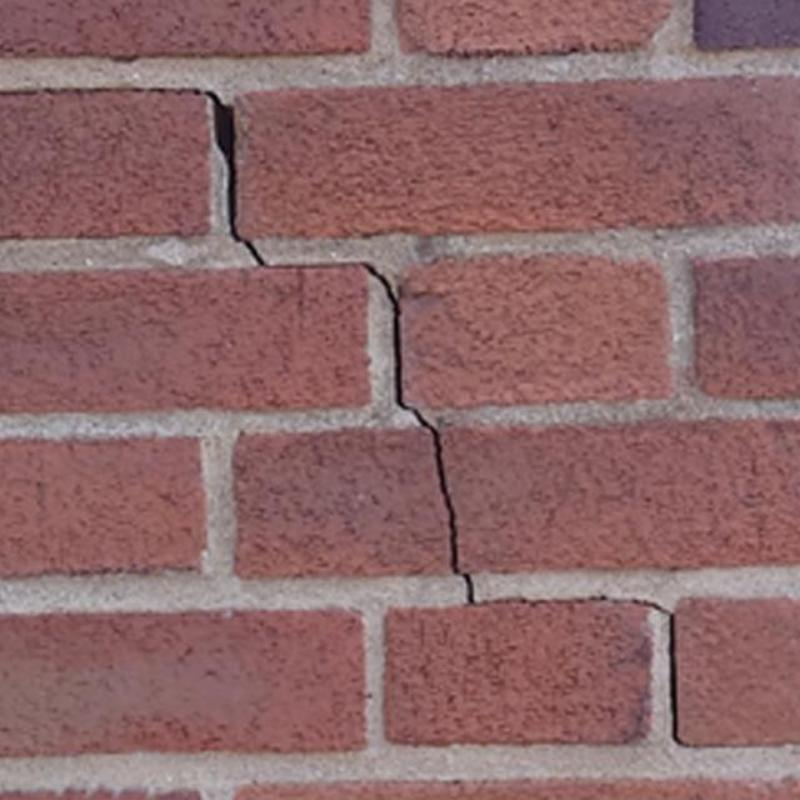pothole: (363, 262, 475, 604), (592, 596, 689, 747), (207, 91, 264, 265), (0, 88, 206, 95), (265, 261, 361, 269), (476, 598, 592, 604)
